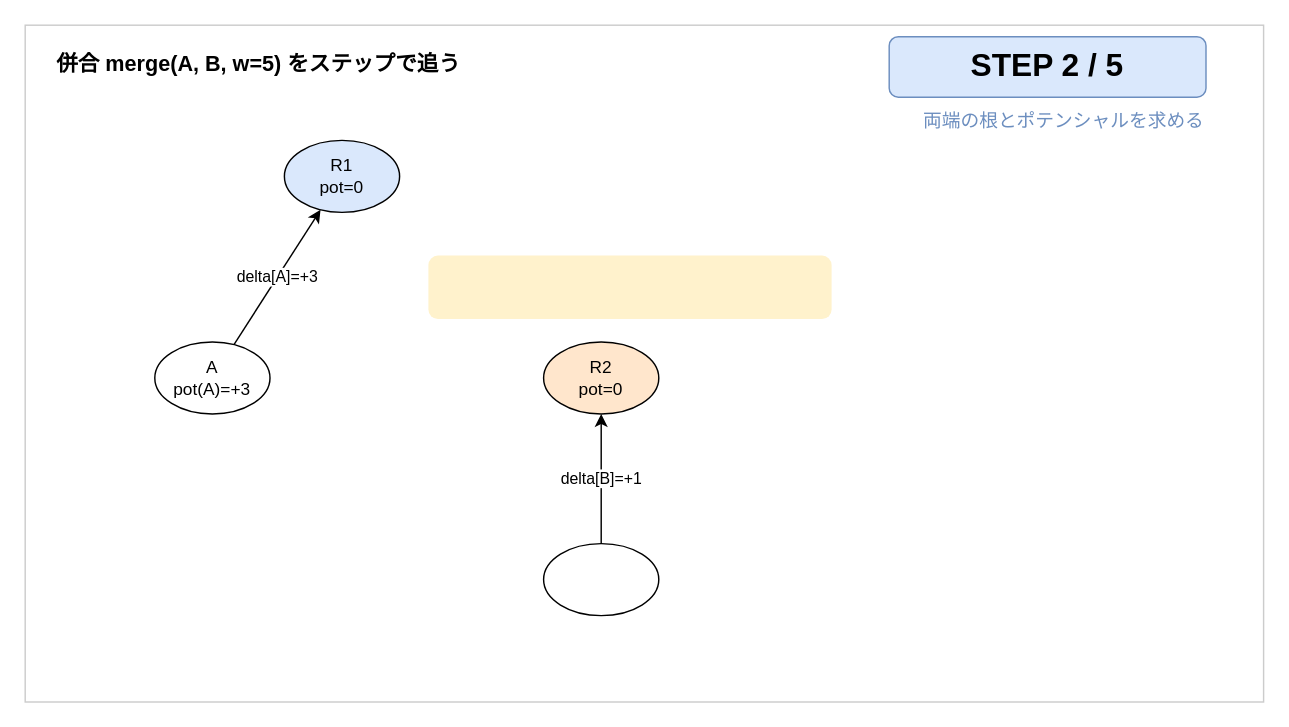
The diagram is 1289 pixels wide and 727 high, and some of its shapes have lost their labels. The centre of each missing label's shape, as x and y in pixels:
"B pot(B)=+1" goes at point 600,579.
"根が違う → 併合できる" goes at point 629,286.
